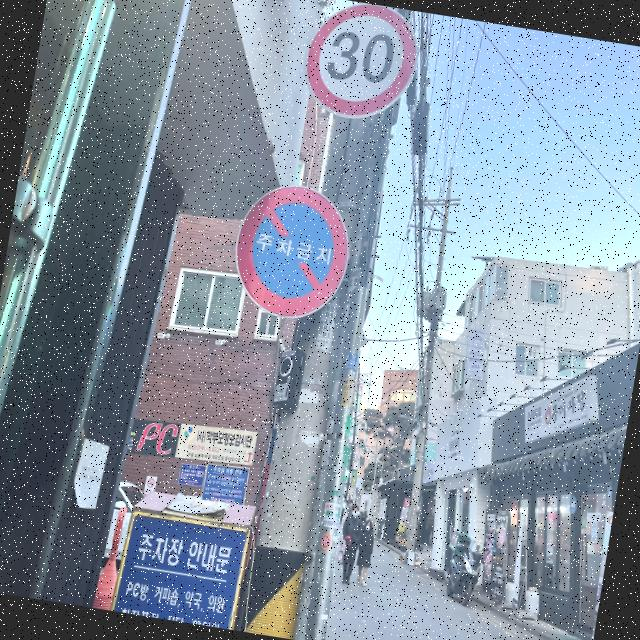Ograniczenie predkosci do 30: (300, 0, 424, 125)
